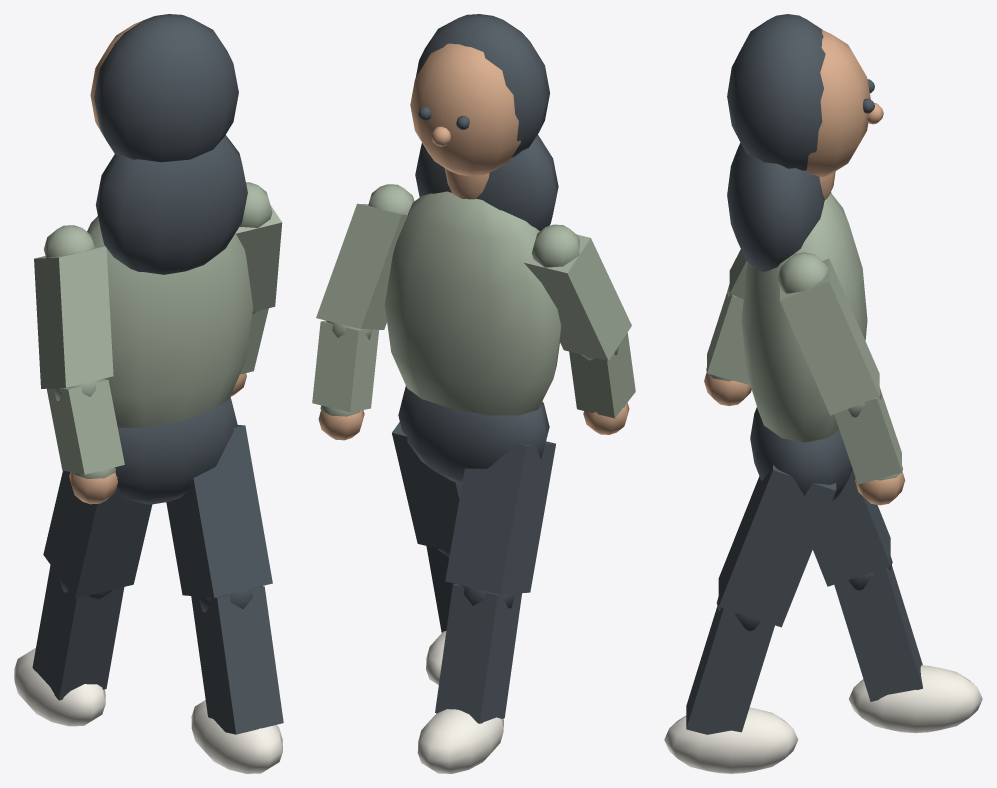
Rendered from person-warga-step-b.glb.
3 renders of one model, left to right at view 1: azimuth 30°, elevation 25°; view 2: azimuth 150°, elevation 25°; view 3: azimuth 270°, elevation 25°, orthographic. The views are drawn at different scales.
Parts seen in each view (by area): view 1: person-warga-step-b; view 2: person-warga-step-b; view 3: person-warga-step-b.
Boxes of the visible parts, x1,y1,x2,y2 form: person-warga-step-b: [14, 14, 283, 773]; person-warga-step-b: [312, 14, 635, 773]; person-warga-step-b: [664, 14, 982, 773].
Bounding box in the file's own units: 0.71 × 1.92 × 0.76.
